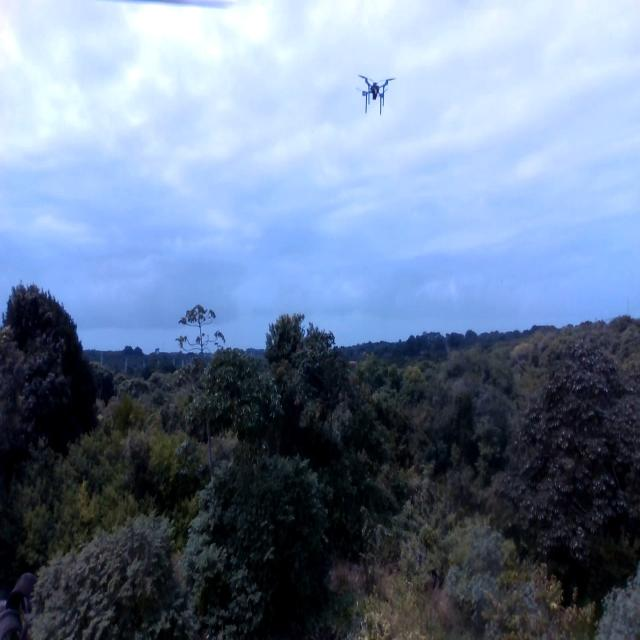-uav-: (352, 64, 396, 120)
